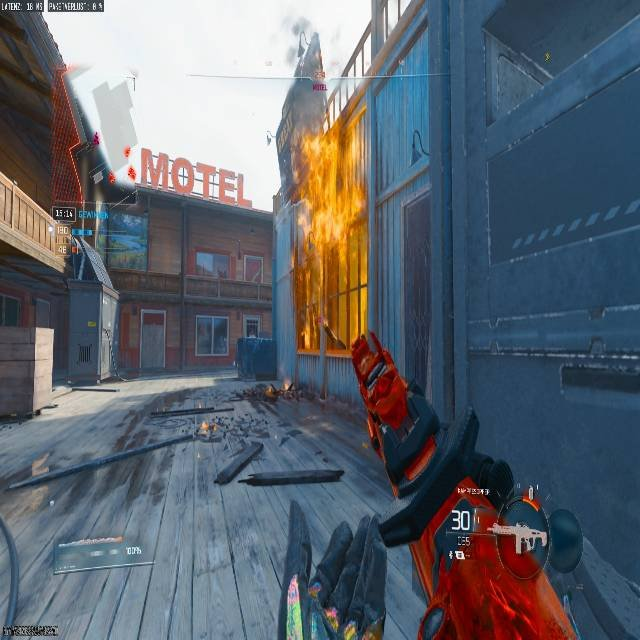player: (127, 165, 135, 181)
